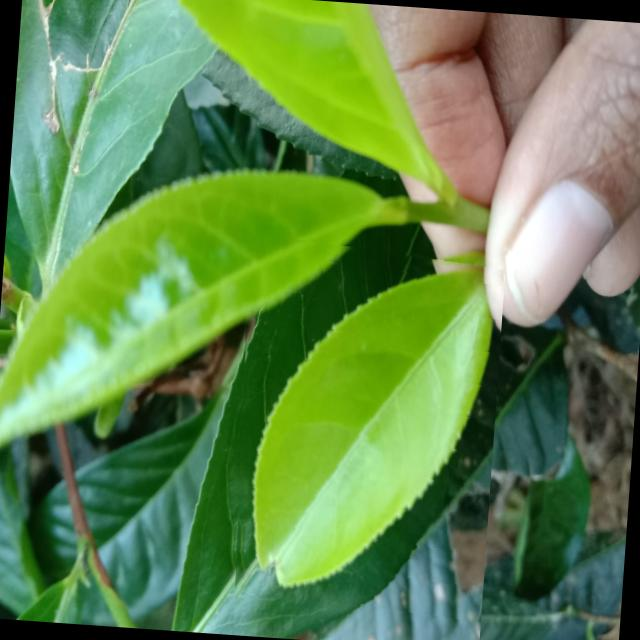Category C(4-7 days): (220, 231, 506, 640)
